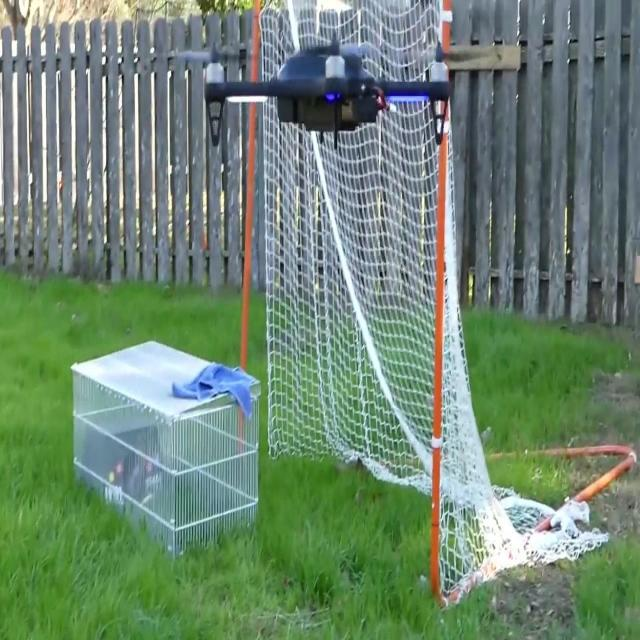UAV: (168, 30, 496, 154)
